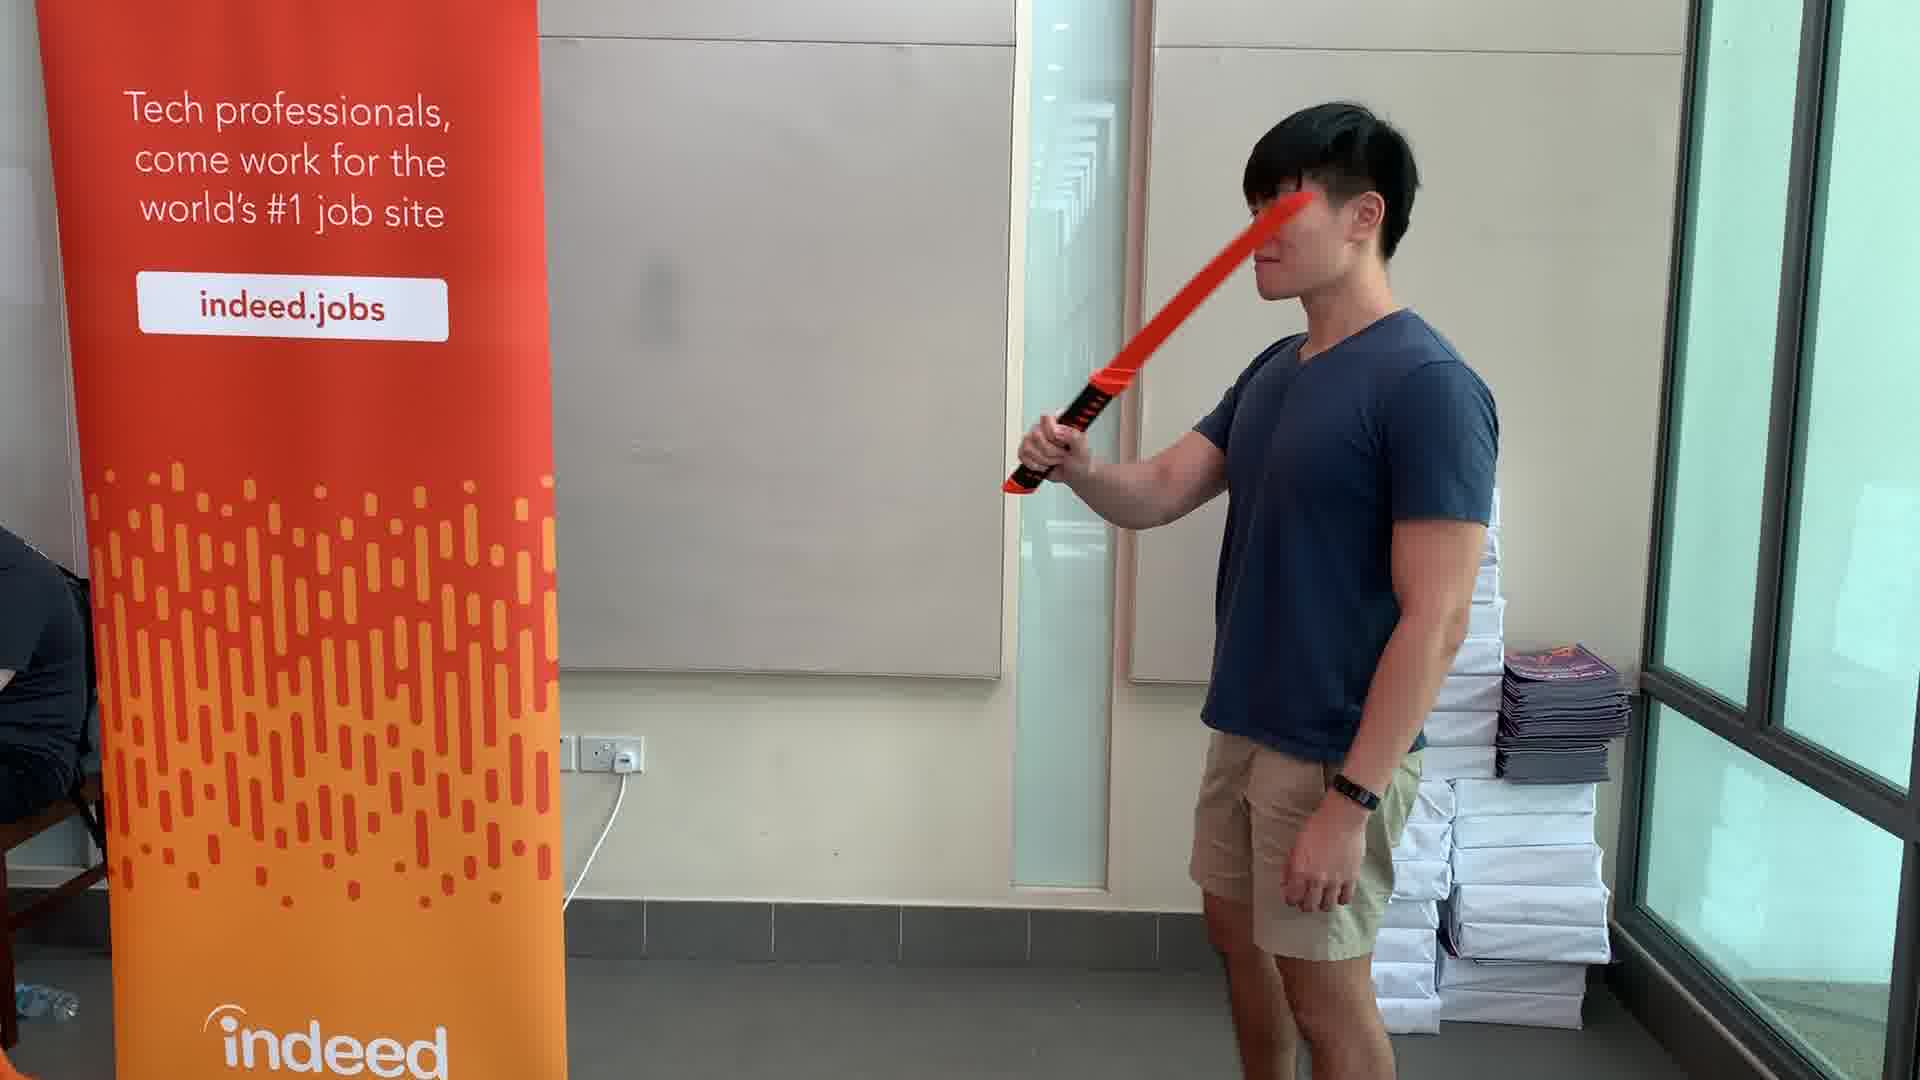knife: (992, 170, 1335, 506)
